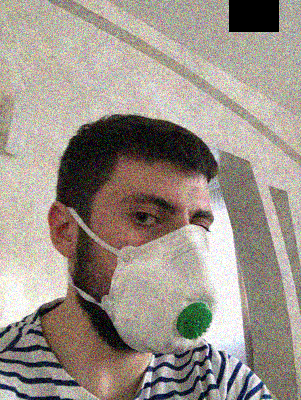with_mask: (89, 180, 221, 356)
